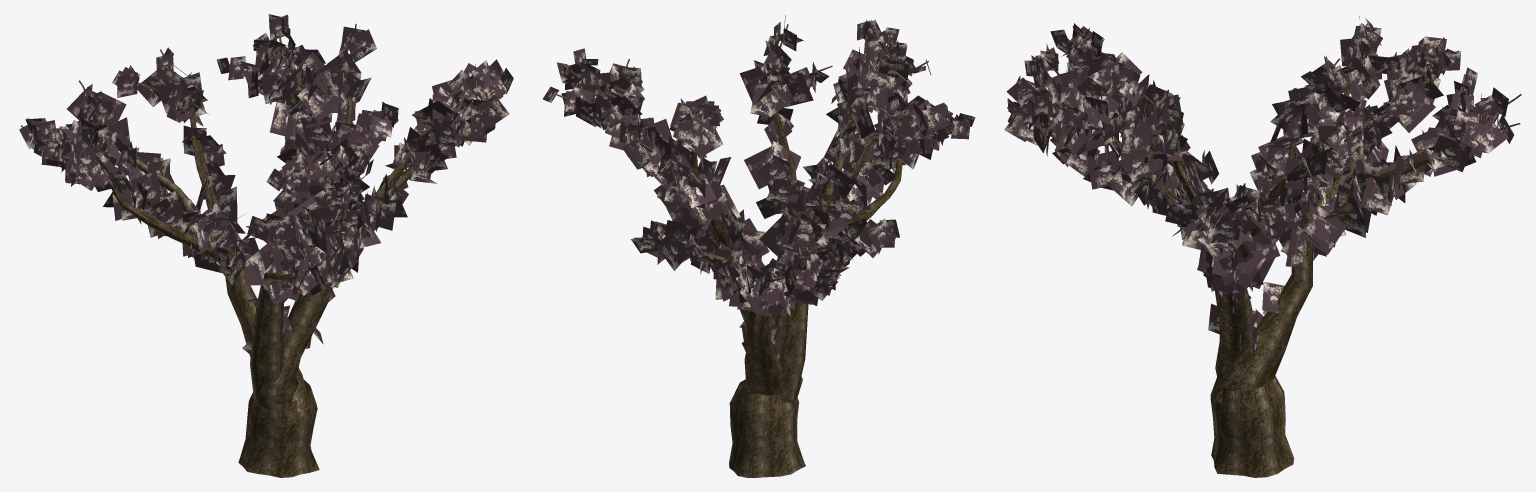
Rendered from blossom_2x_5.glb.
3 renders of one model, left to right at view 1: azimuth 30°, elevation 25°; view 2: azimuth 150°, elevation 25°; view 3: azimuth 270°, elevation 25°, orthographic. The views are drawn at different scales.
Parts seen in each view (by area): view 1: blossom; view 2: blossom; view 3: blossom.
Boxes of the visible parts, box(x1,y1,x2,y2) form: blossom: box(19, 14, 513, 477); blossom: box(543, 15, 975, 477); blossom: box(1004, 16, 1521, 477).
Bounding box in the file's own units: 36.53 × 33.71 × 37.41.
2 materials, 2 textured.
